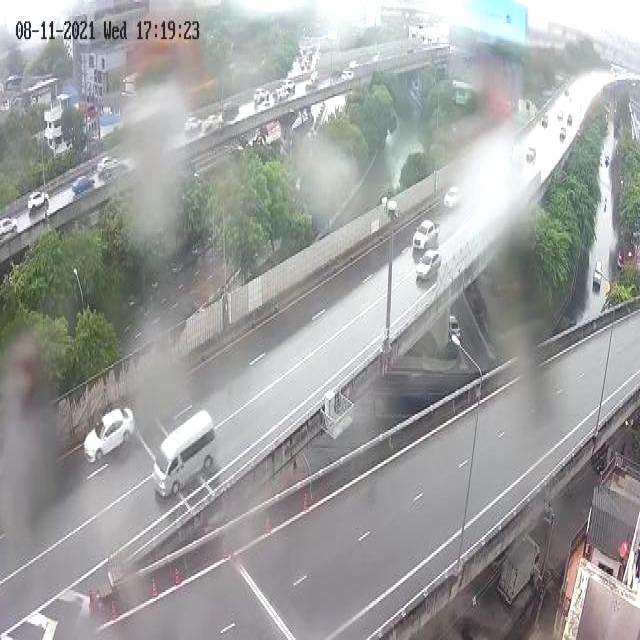Car: (83, 405, 134, 463), (416, 249, 441, 281), (70, 175, 96, 195), (28, 191, 49, 215), (0, 214, 18, 236), (444, 186, 461, 208), (222, 100, 239, 118), (185, 115, 202, 132), (96, 154, 112, 172), (205, 114, 220, 131), (450, 315, 460, 337), (526, 146, 537, 164), (254, 88, 265, 103), (259, 100, 273, 111), (560, 126, 566, 138), (542, 114, 548, 126), (566, 114, 572, 126), (557, 109, 563, 120)
Truck: (498, 535, 540, 606), (413, 220, 439, 250)
Van: (154, 409, 217, 497)
